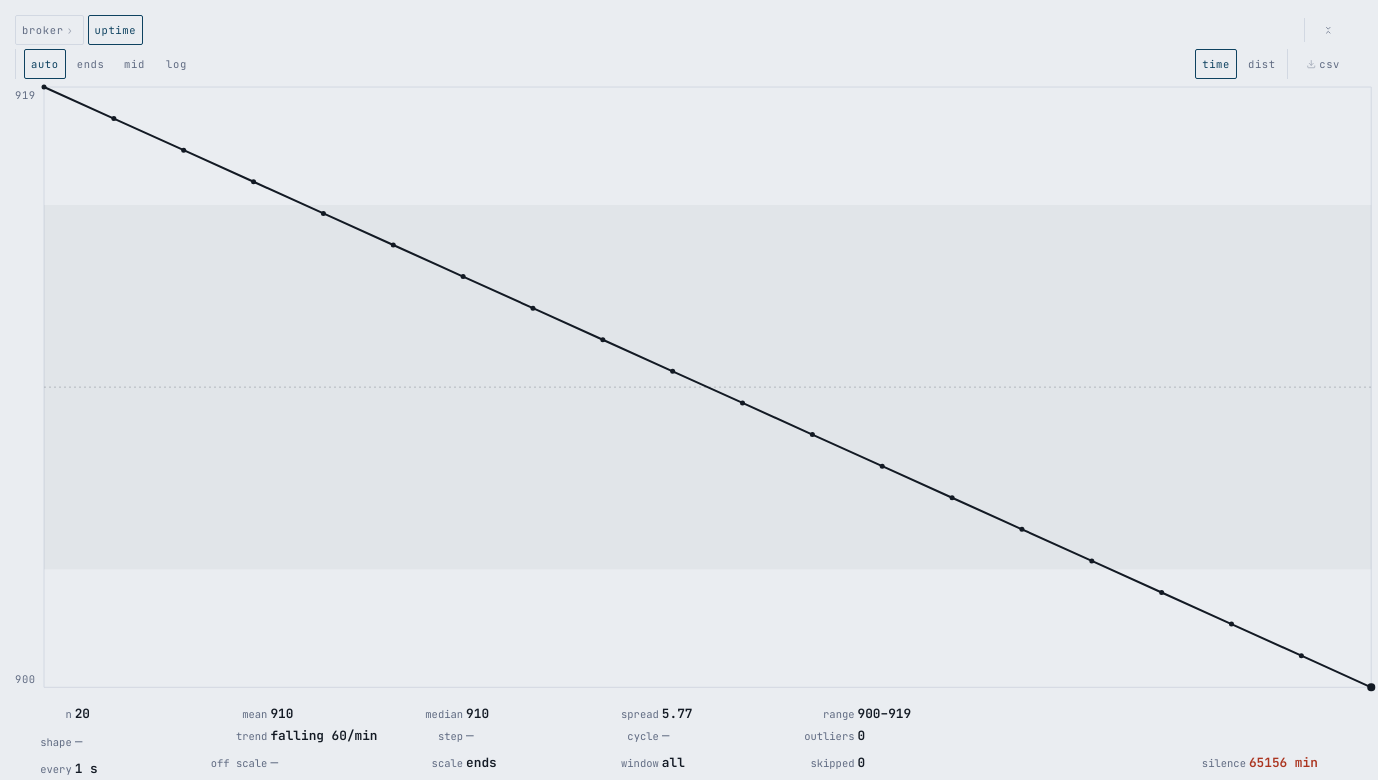
Scenario: a body with its numbers nested › walks down as far as the fields go
Click the button with aria-label "Open broker".
click(49, 30)  # box top-left (15, 15), bottom-right (84, 45)
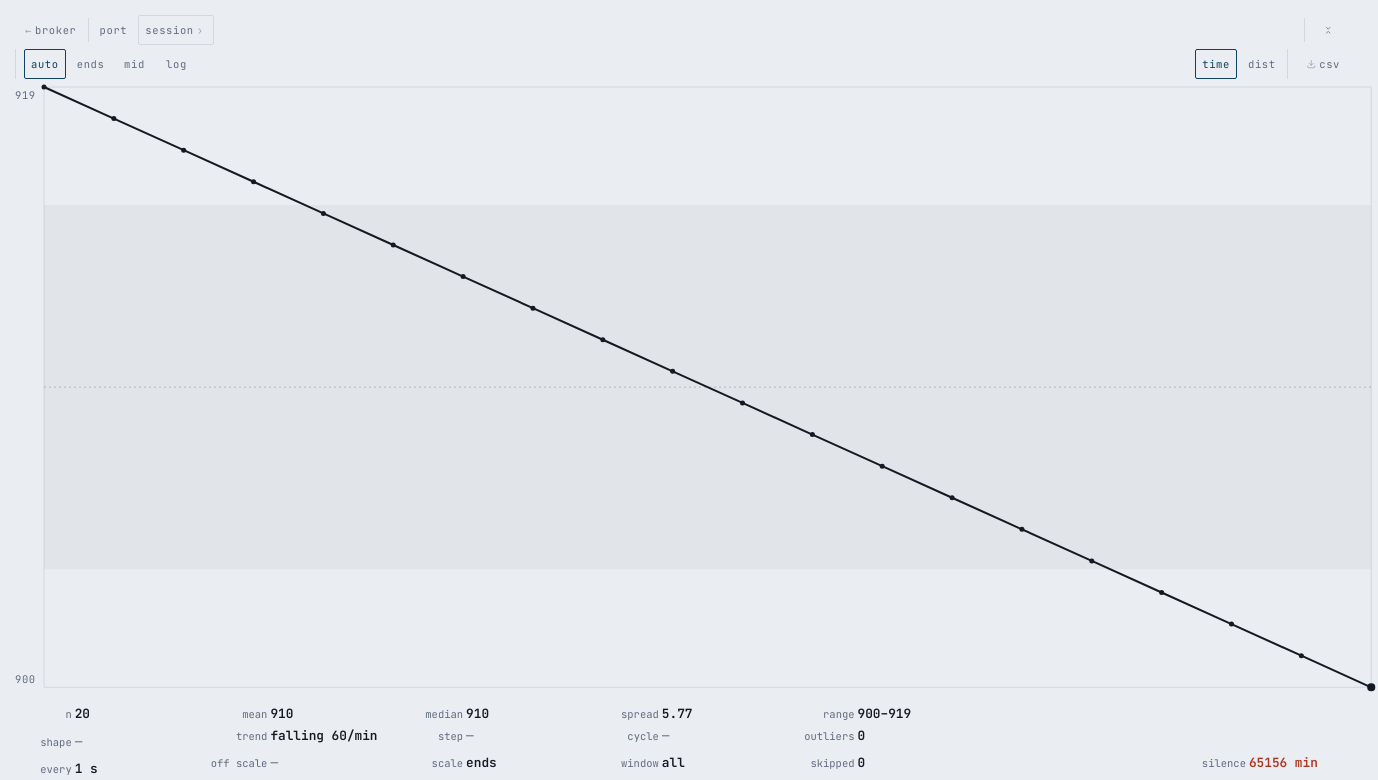
Click the button with aria-label "Open broker.session".
click(176, 30)  # box top-left (138, 15), bottom-right (214, 45)
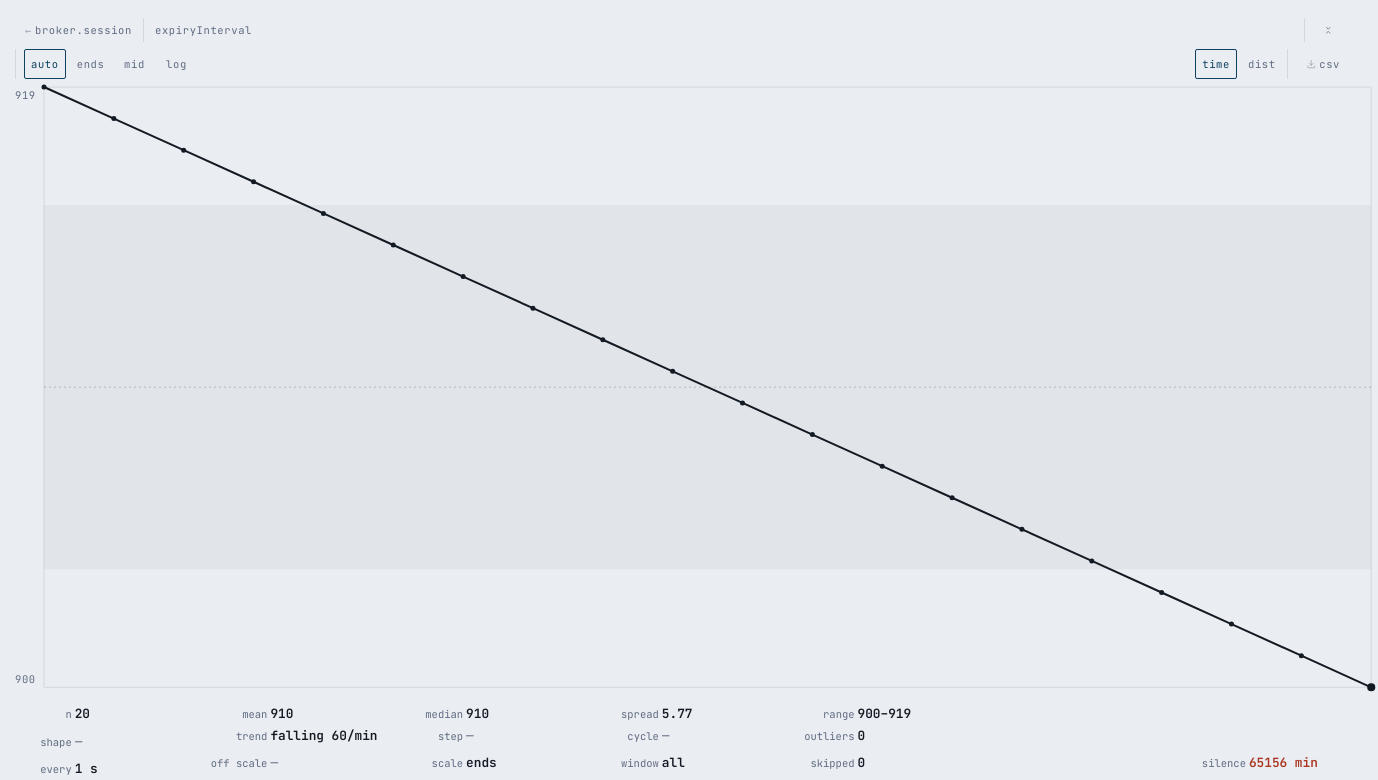
Result: the button with aria-label "Chart broker.session.expiryInterval" is shown at top-left (148, 15), bottom-right (259, 45)
Result: the button with aria-label "Back out of broker.session" is shown at top-left (15, 15), bottom-right (139, 45)
